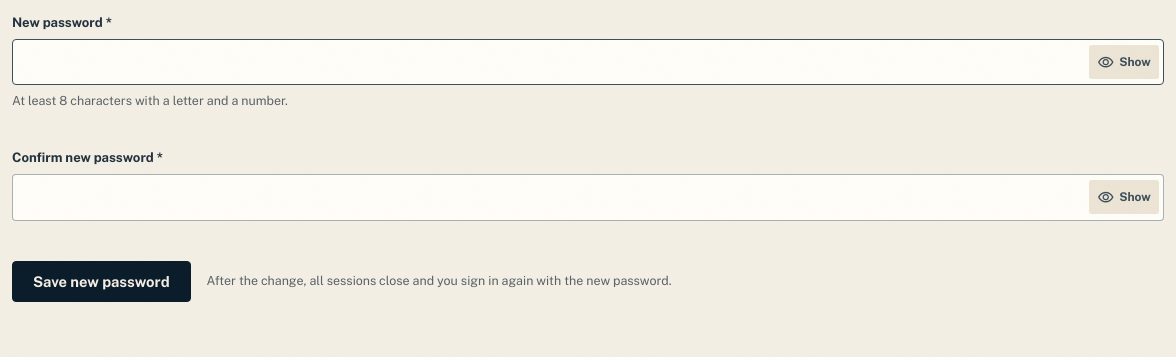
Test case: PasswordResetForm › still reports a genuinely unusable link for other failures
Type "SecurePass9" into the password field labelled "New password *".
click(588, 62); type("SecurePass9")  # box [12,39,1164,85]
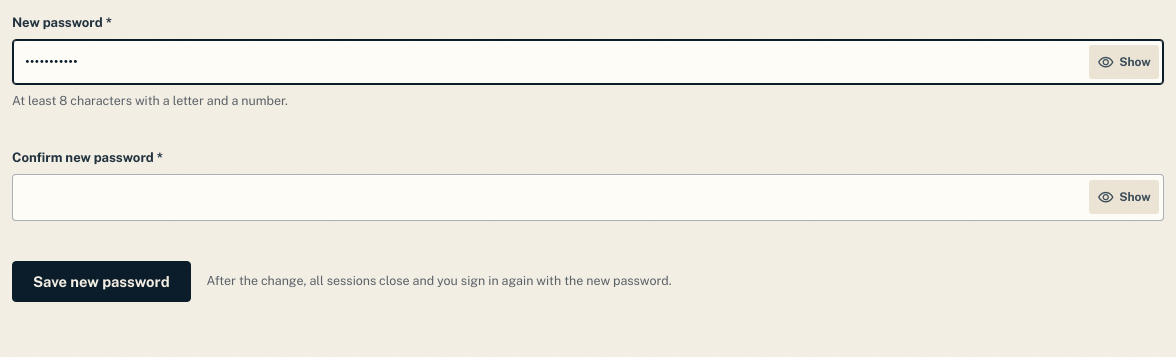
Type "SecurePass9" into the password field labelled "Confirm new password *".
click(588, 197); type("SecurePass9")  # box [12,174,1164,221]
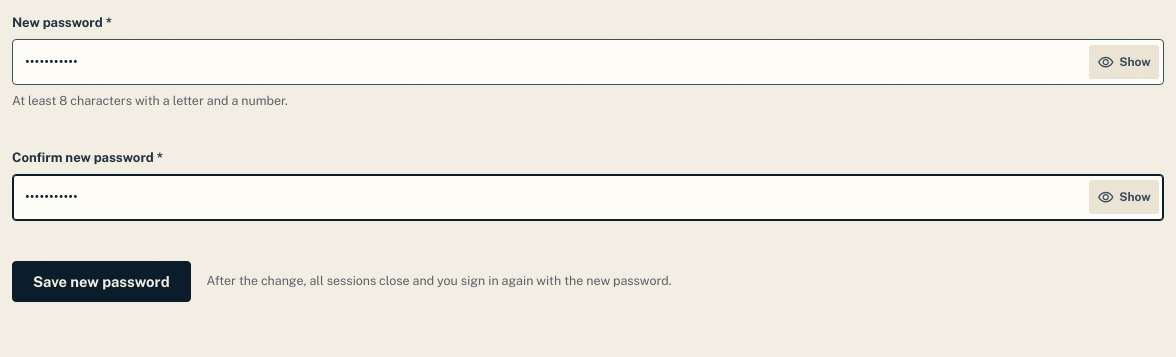
Click the button "Save new password".
click(101, 281)  # box [12,261,191,302]
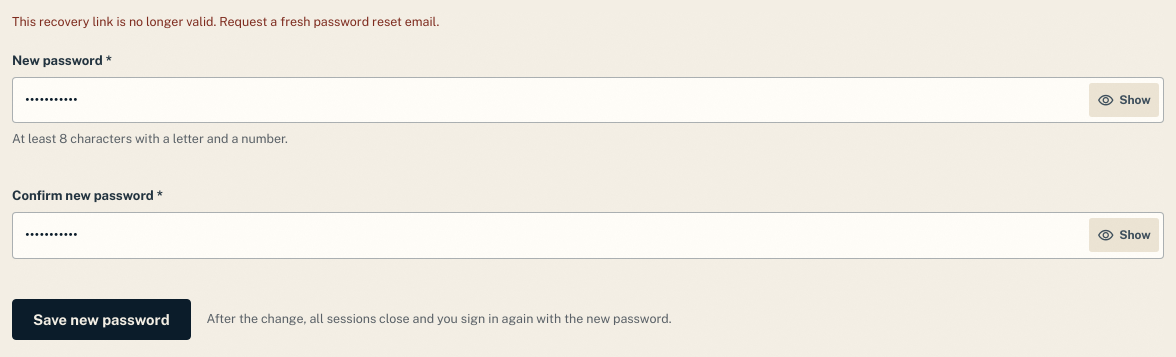
Result: the message shows "no longer valid" at [12,14,439,29]
